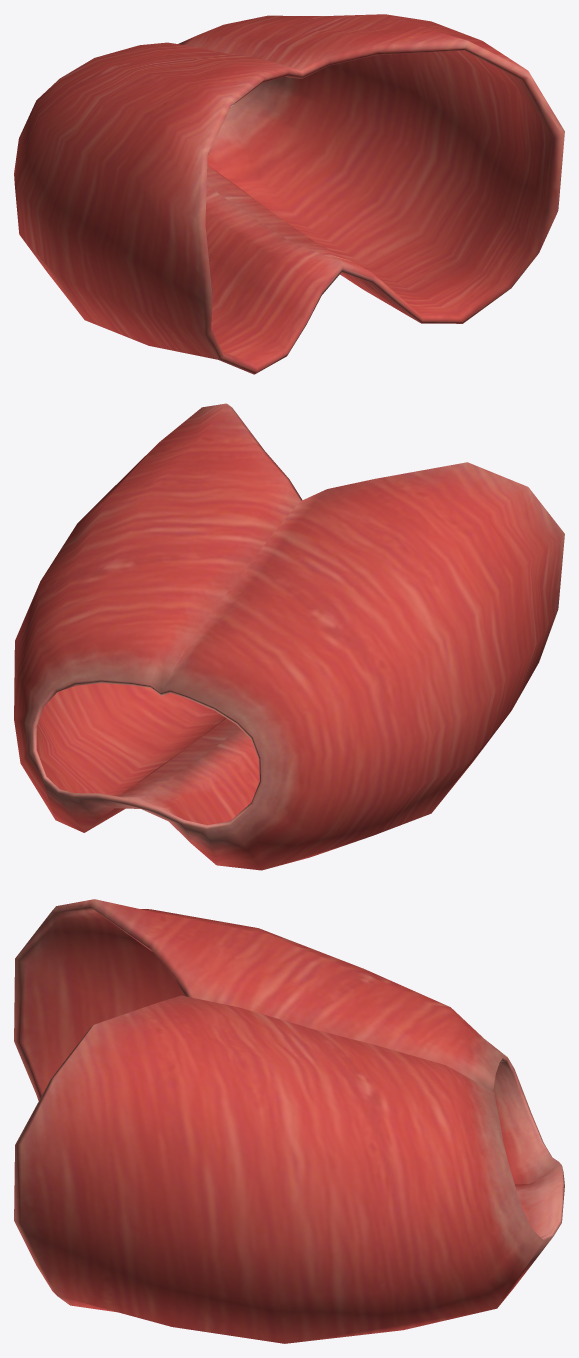
File: Intercostais.fbx
The picture shows the model from 3 angles, top to bottom: view 1: azimuth 30°, elevation 25°; view 2: azimuth 150°, elevation 25°; view 3: azimuth 270°, elevation 25°; orthographic projection. The views are drawn at different scales.
Visible parts, largest first — view 1: Intercostais; view 2: Intercostais; view 3: Intercostais.
Part boxes in pixels (x1=…): Intercostais: x1=14, y1=14, x2=564, y2=374; Intercostais: x1=14, y1=403, x2=564, y2=870; Intercostais: x1=14, y1=899, x2=564, y2=1343.
Bounding box in the file's own units: 118 × 76.7 × 122.
